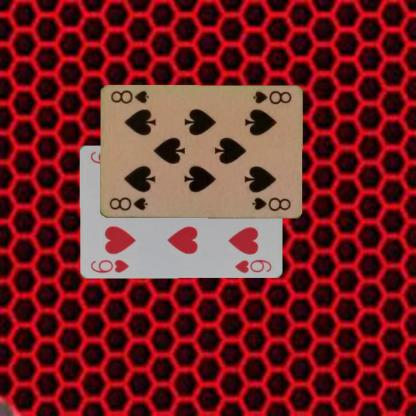6h: (88, 256, 130, 274)
8s: (250, 88, 292, 106), (107, 195, 148, 212)
